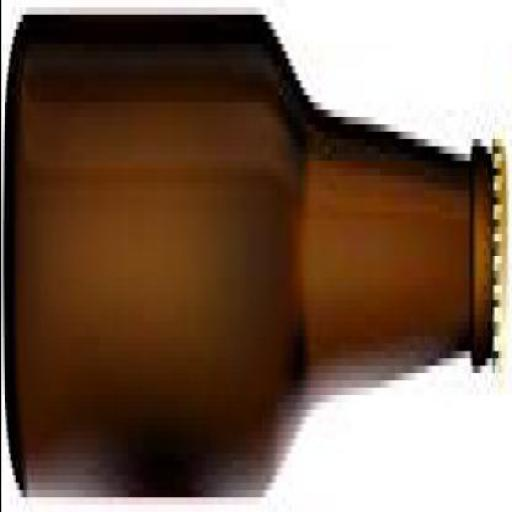glass: (1, 8, 494, 504)
metal: (488, 161, 510, 373)
